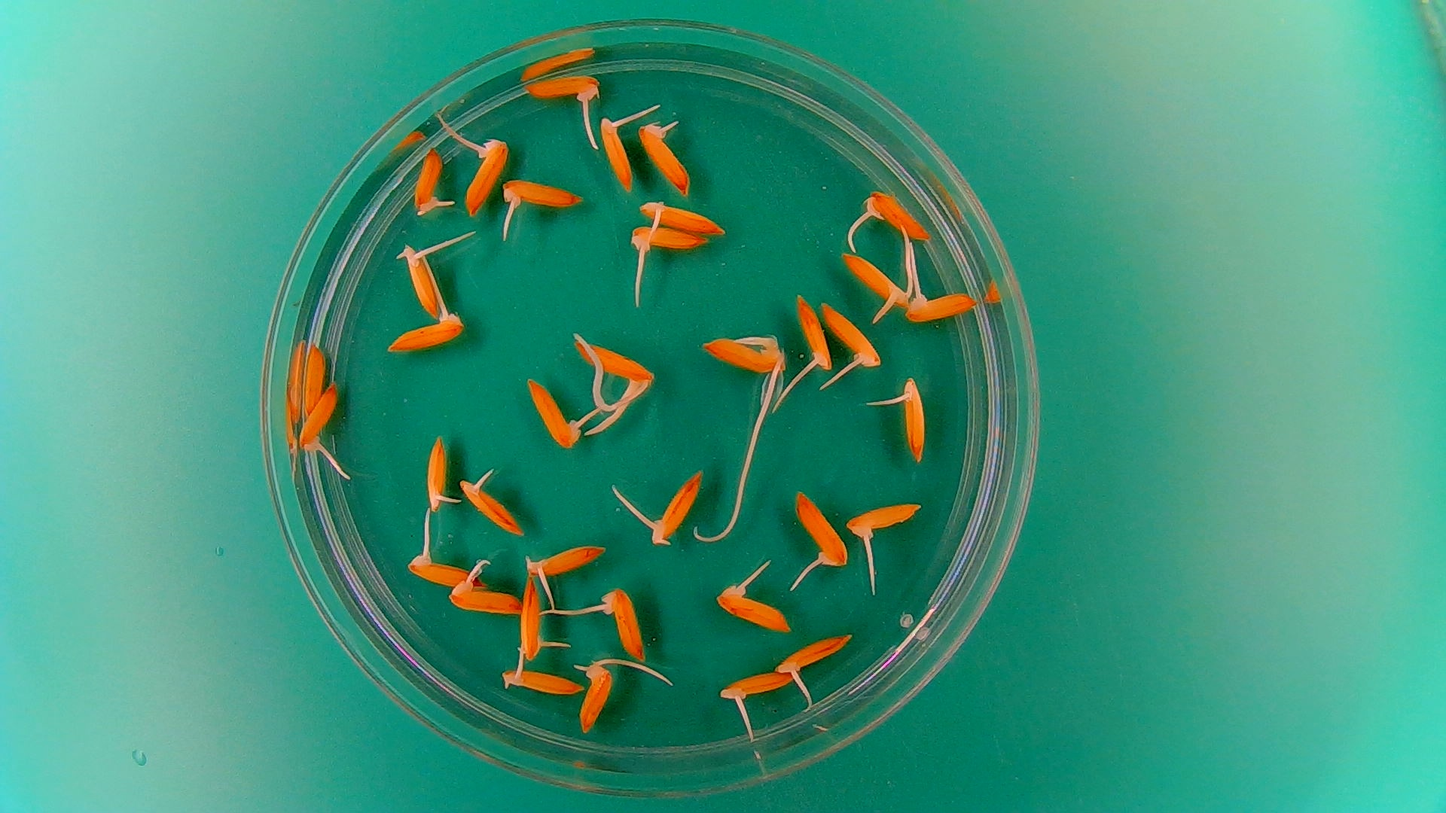no: (301, 340, 327, 416)
yes: (792, 486, 849, 571), (818, 300, 882, 372), (526, 377, 586, 452), (649, 465, 705, 543), (457, 474, 523, 538), (859, 190, 934, 244), (837, 246, 905, 305), (718, 583, 795, 635), (638, 122, 692, 195), (579, 337, 657, 386), (396, 244, 447, 318), (775, 633, 856, 678), (636, 201, 730, 239), (465, 137, 507, 221), (524, 540, 603, 583), (703, 334, 784, 375), (386, 310, 458, 355), (574, 663, 618, 735), (721, 668, 798, 708), (603, 589, 645, 662), (795, 295, 834, 373), (497, 660, 581, 696), (502, 175, 579, 214), (599, 117, 635, 194), (301, 379, 337, 454), (446, 580, 520, 616), (897, 382, 929, 465), (844, 503, 921, 537), (519, 577, 550, 659), (523, 70, 602, 102), (905, 288, 975, 323), (407, 553, 477, 586), (628, 225, 709, 252), (412, 149, 441, 220), (423, 437, 450, 511)
